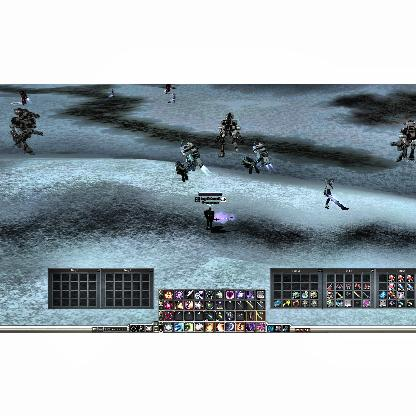caliana: (322, 176, 350, 210), (168, 92, 176, 102), (109, 88, 115, 96)
